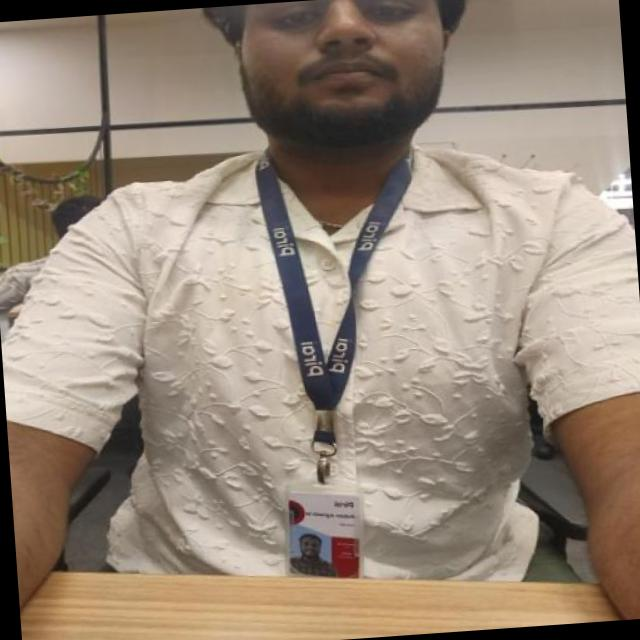id_card: (257, 141, 445, 584)
